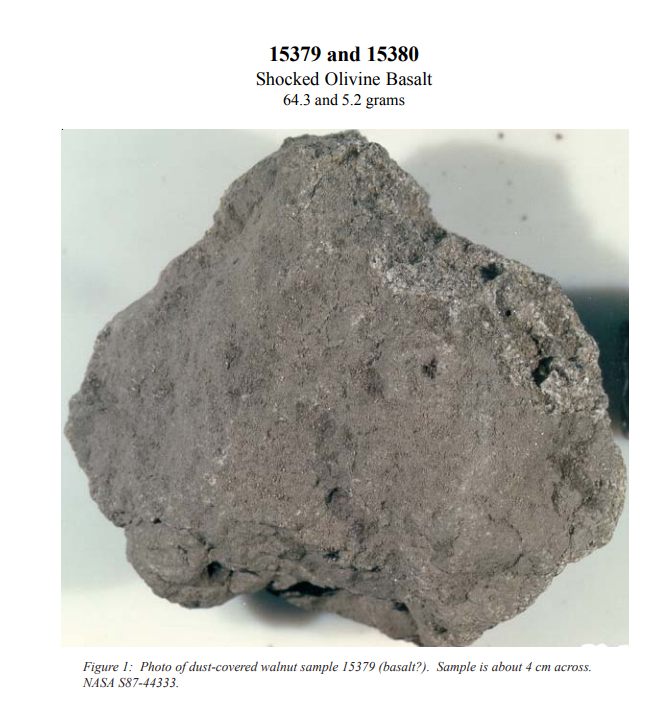Basalt: (62, 129, 626, 644)
